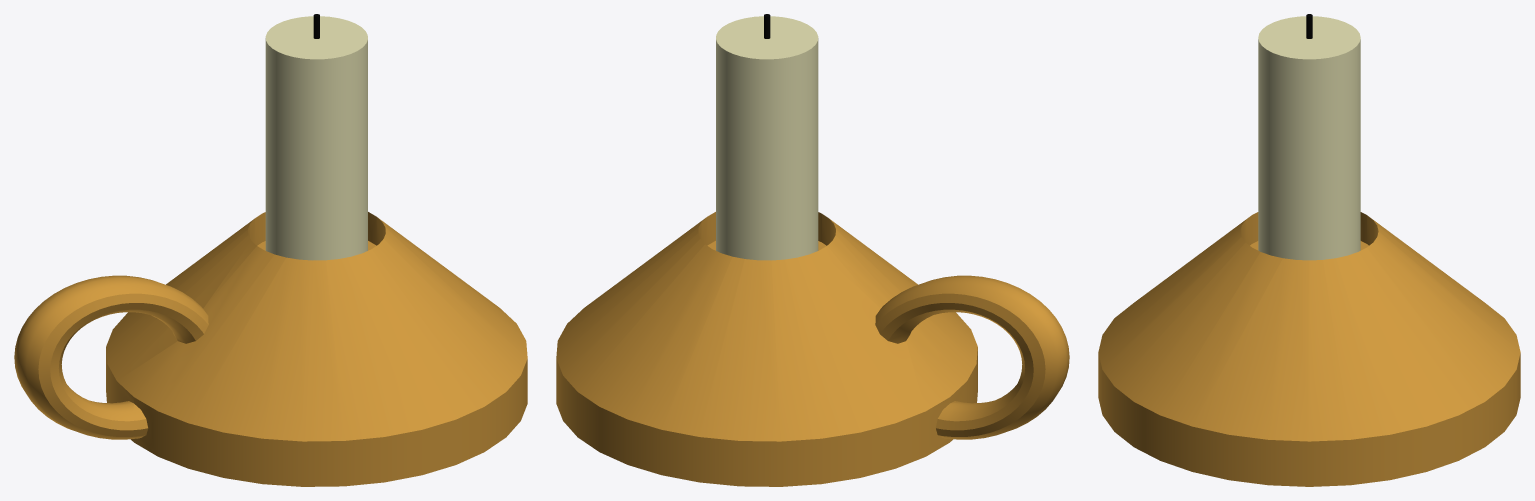
Rendered from bougeoir_Abougie.glb.
3 renders of one model, left to right at view 1: azimuth 30°, elevation 25°; view 2: azimuth 150°, elevation 25°; view 3: azimuth 270°, elevation 25°, orthographic.
Parts seen in each view (by area): view 1: bougeoir_Abougie; view 2: bougeoir_Abougie; view 3: bougeoir_Abougie.
Boxes of the visible parts, x1,y1,x2,y2 form: bougeoir_Abougie: [14, 14, 527, 486]; bougeoir_Abougie: [556, 14, 1069, 486]; bougeoir_Abougie: [1098, 14, 1520, 486].
Size of the model in its own units: 1.78 by 1.35 by 1.35.
Materials: 3 (1 with a texture image).
